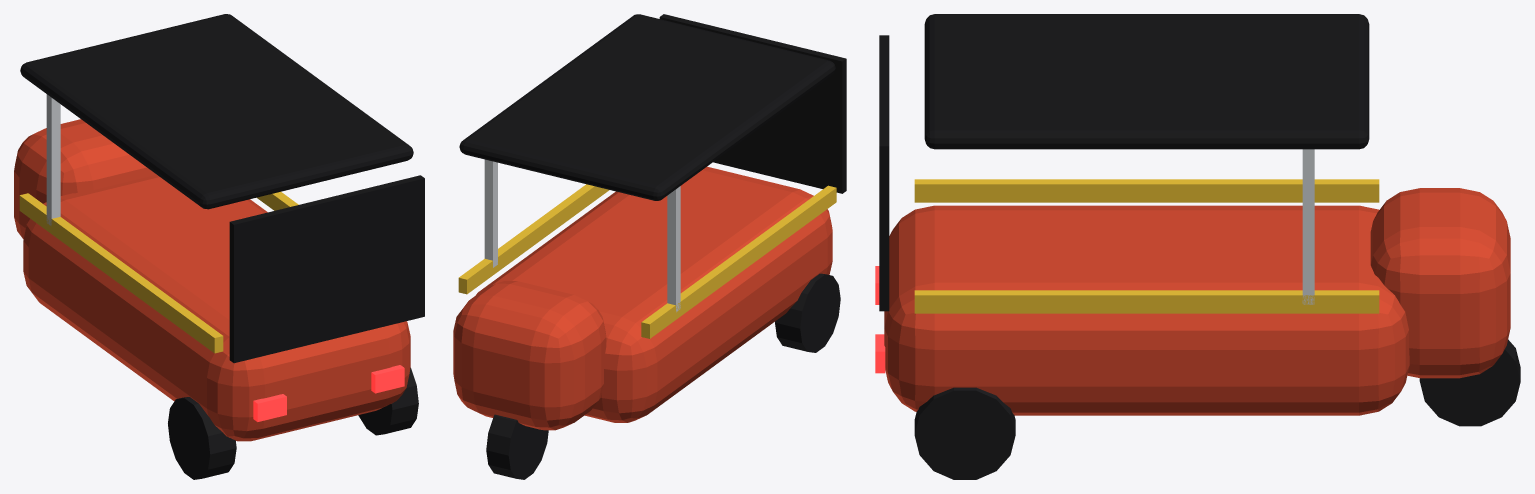
The model's file is rick-rival-DwmcL_J0.glb.
3 renders of one model, left to right at view 1: azimuth 30°, elevation 25°; view 2: azimuth 150°, elevation 25°; view 3: azimuth 270°, elevation 25°, orthographic. The views are drawn at different scales.
Parts seen in each view (by area): view 1: Cube, Cube.002, Cube.007, Cube.001, Cube.004, Cylinder, Cube.003, Cylinder.001, Cube.008, Cube.009, Cube.006; view 2: Cube, Cube.002, Cube.001, Cube.007, Cube.004, Cylinder, Cube.006, Cylinder.002, Cube.003, Cube.005; view 3: Cube, Cube.002, Cube.001, Cube.006, Cube.004, Cylinder.001, Cylinder.002, Cube.007, Cube.005.
Boxes of the visible parts, x1=… form: Cube: x1=23, y1=174, x2=410, y2=441; Cube.002: x1=20, y1=14, x2=413, y2=209; Cube.007: x1=229, y1=175, x2=424, y2=363; Cube.001: x1=14, y1=119, x2=156, y2=239; Cube.004: x1=19, y1=193, x2=223, y2=353; Cylinder: x1=168, y1=397, x2=236, y2=479; Cube.003: x1=46, y1=94, x2=60, y2=225; Cylinder.001: x1=358, y1=367, x2=418, y2=435; Cube.008: x1=253, y1=394, x2=286, y2=421; Cube.009: x1=371, y1=365, x2=404, y2=393; Cube.006: x1=257, y1=191, x2=298, y2=210; Cube: x1=476, y1=166, x2=832, y2=422; Cube.002: x1=459, y1=14, x2=835, y2=200; Cube.001: x1=453, y1=281, x2=606, y2=430; Cube.007: x1=659, y1=14, x2=846, y2=193; Cube.004: x1=641, y1=185, x2=836, y2=338; Cylinder: x1=775, y1=273, x2=840, y2=352; Cube.006: x1=458, y1=184, x2=609, y2=294; Cylinder.002: x1=486, y1=414, x2=548, y2=479; Cube.003: x1=667, y1=186, x2=680, y2=312; Cube.005: x1=484, y1=159, x2=497, y2=267; Cube: x1=884, y1=205, x2=1409, y2=415; Cube.002: x1=924, y1=14, x2=1369, y2=149; Cube.001: x1=1370, y1=188, x2=1510, y2=378; Cube.006: x1=914, y1=290, x2=1379, y2=313; Cube.004: x1=914, y1=179, x2=1379, y2=202; Cylinder.001: x1=914, y1=387, x2=1015, y2=479; Cylinder.002: x1=1419, y1=339, x2=1520, y2=426; Cube.007: x1=879, y1=35, x2=889, y2=311; Cube.005: x1=1302, y1=149, x2=1314, y2=304.
Bounding box in the file's own units: 1.45 × 1.89 × 3.19.
